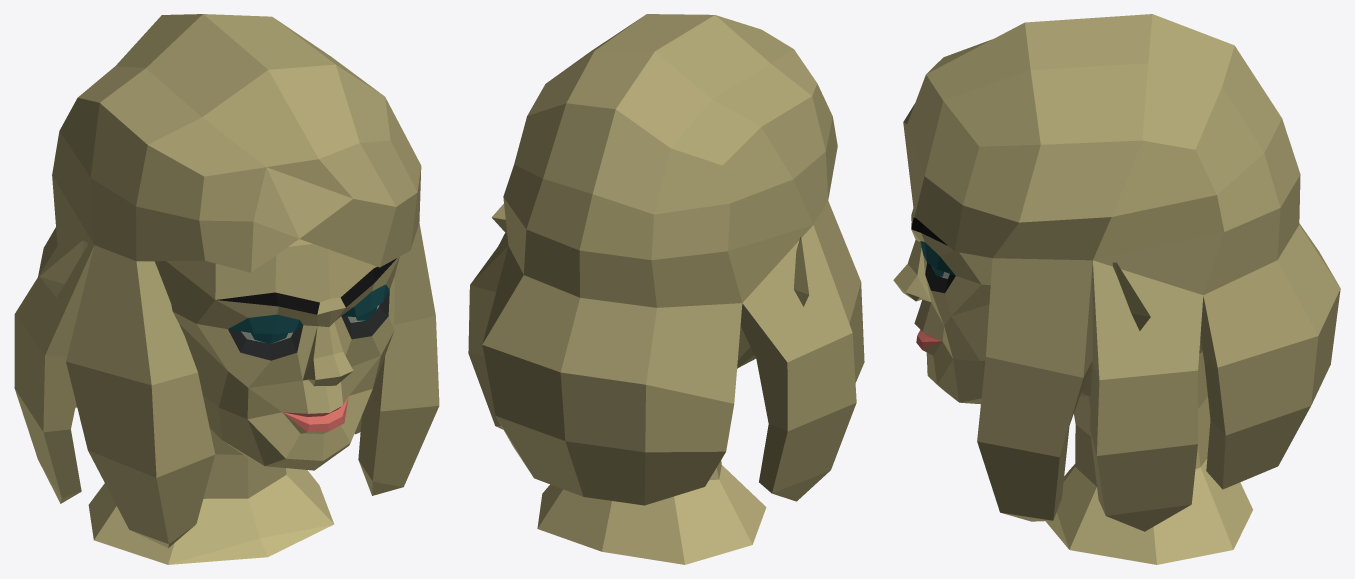
3 renders of one model, left to right at view 1: azimuth 30°, elevation 25°; view 2: azimuth 150°, elevation 25°; view 3: azimuth 270°, elevation 25°, orthographic. The views are drawn at different scales.
Parts seen in each view (by area): view 1: polySurface13; view 2: polySurface13; view 3: polySurface13.
Boxes of the visible parts, <box> form: polySurface13: <box>14,14,439,564</box>; polySurface13: <box>468,14,864,564</box>; polySurface13: <box>893,14,1340,564</box>.
Bounding box in the file's own units: 4.04 × 5.01 × 4.1.
